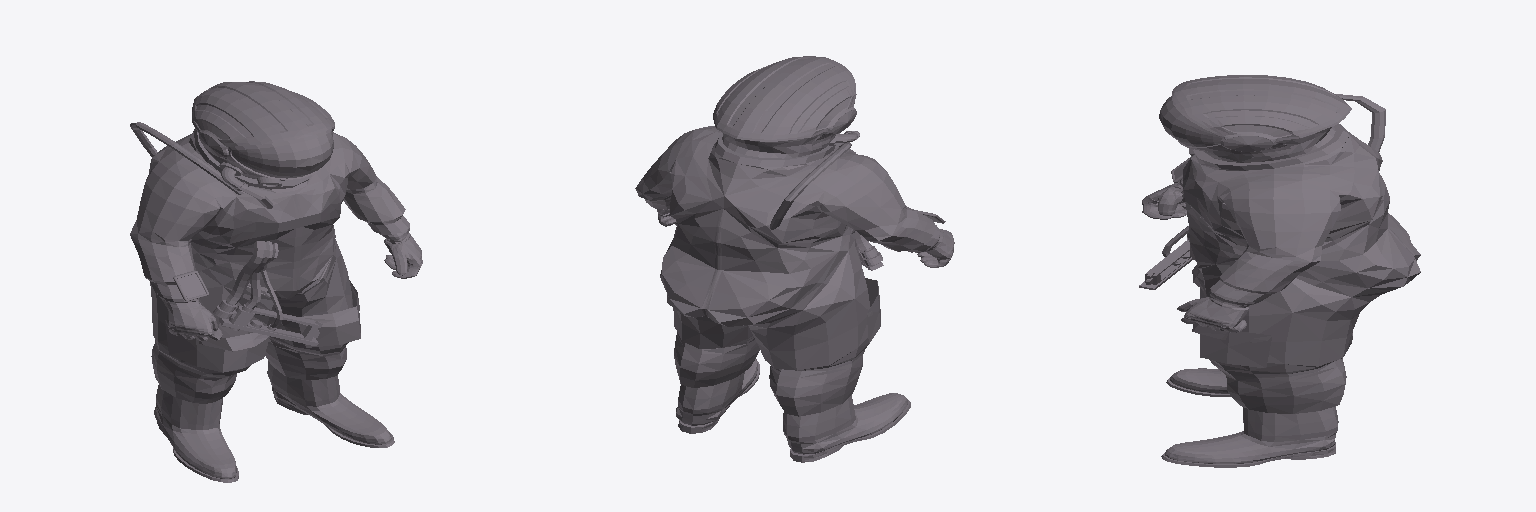
File: astro.obj
3 views of the same model, side by side, from view 1: azimuth 30°, elevation 25°; view 2: azimuth 150°, elevation 25°; view 3: azimuth 270°, elevation 25° (orthographic).
Parts seen in each view (by area): view 1: 3d-model.001; view 2: 3d-model.001; view 3: 3d-model.001.
Part boxes in pixels (x1,y1,x2,y2): 3d-model.001: (130, 81, 422, 482); 3d-model.001: (635, 56, 954, 462); 3d-model.001: (1139, 75, 1420, 467).
Size of the model in its own units: 41.35 by 49.71 by 37.43.